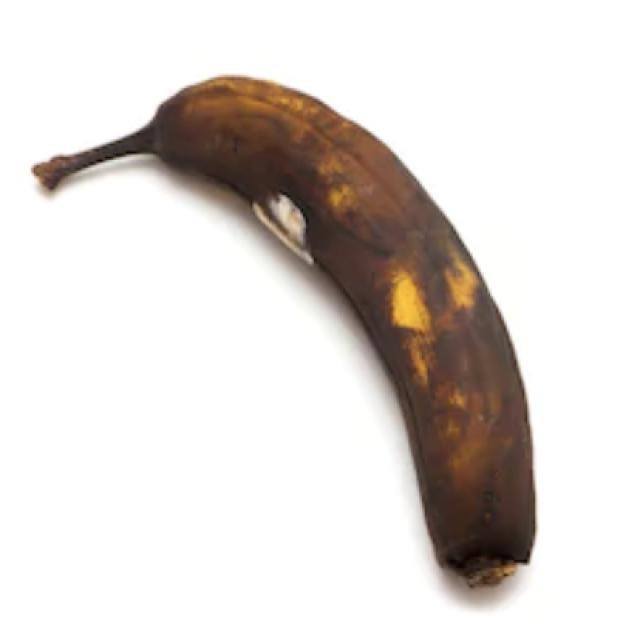rotten-banana: (29, 72, 538, 589)
